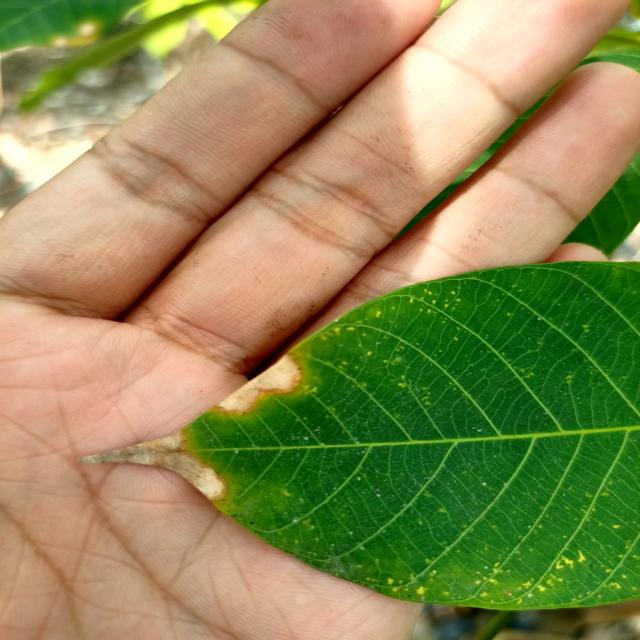Leaf-Blight: (76, 428, 226, 497), (214, 352, 302, 414)
